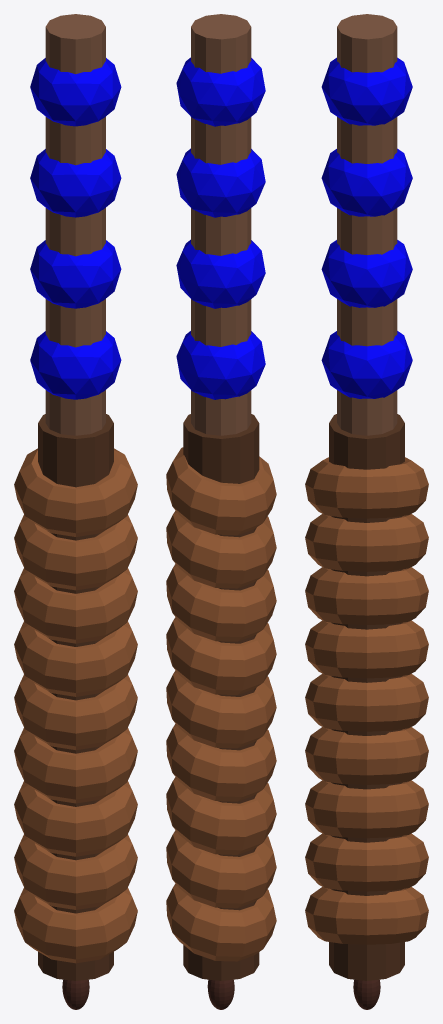
Rendered from Wand 436.glb.
The picture shows the model from 3 angles, left to right: view 1: azimuth 90°, elevation 25°; view 2: azimuth 150°, elevation 25°; view 3: azimuth 270°, elevation 25°; orthographic projection.
Visible parts, largest first — view 1: GeneratedWand; view 2: GeneratedWand; view 3: GeneratedWand.
Boxes of the visible parts, x1,y1,x2,y2 form: GeneratedWand: [14, 14, 137, 1009]; GeneratedWand: [166, 14, 276, 1009]; GeneratedWand: [305, 14, 428, 1009].
Size of the model in its own units: 0.0497 by 0.5088 by 0.0581.
